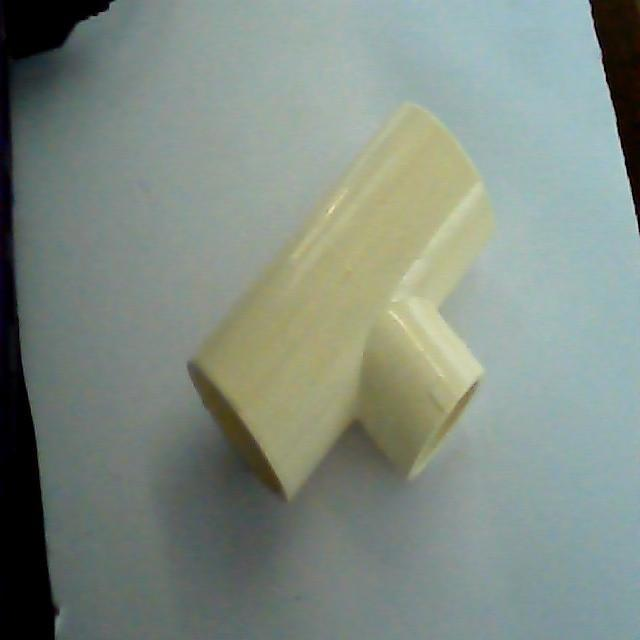T Joint: (186, 102, 498, 504)
